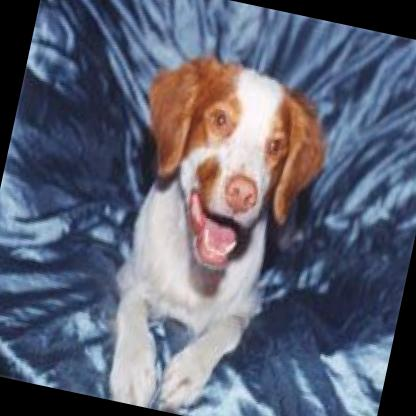Brittany_spaniel: (85, 40, 342, 416)
